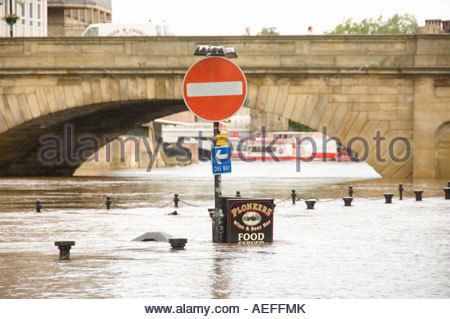No_entry: (182, 56, 248, 123)
